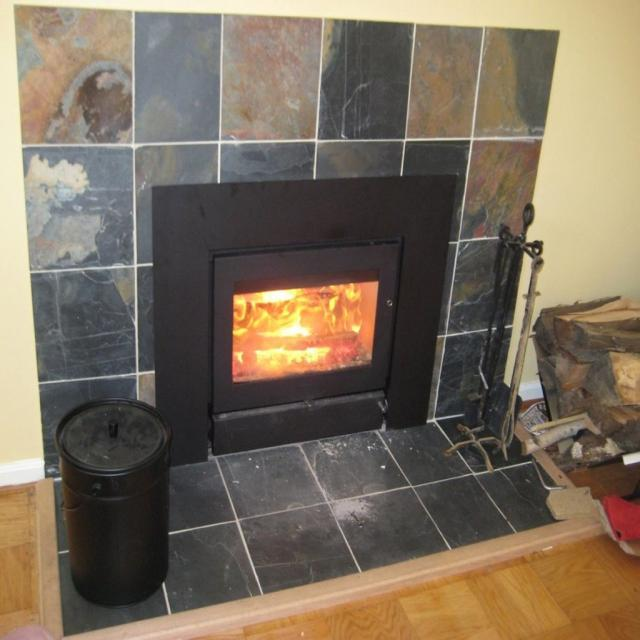Fire: (235, 290, 373, 367)
